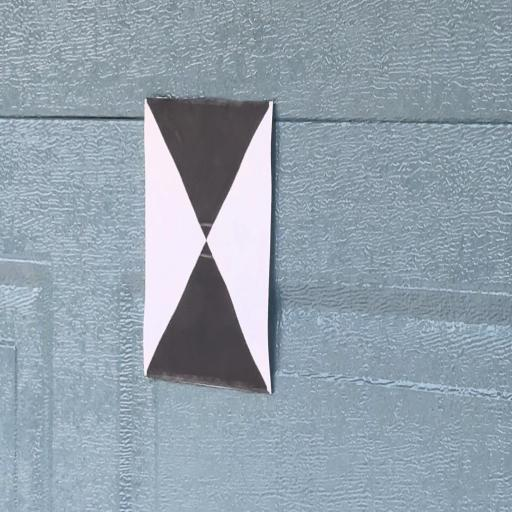target: (144, 100, 273, 390)
